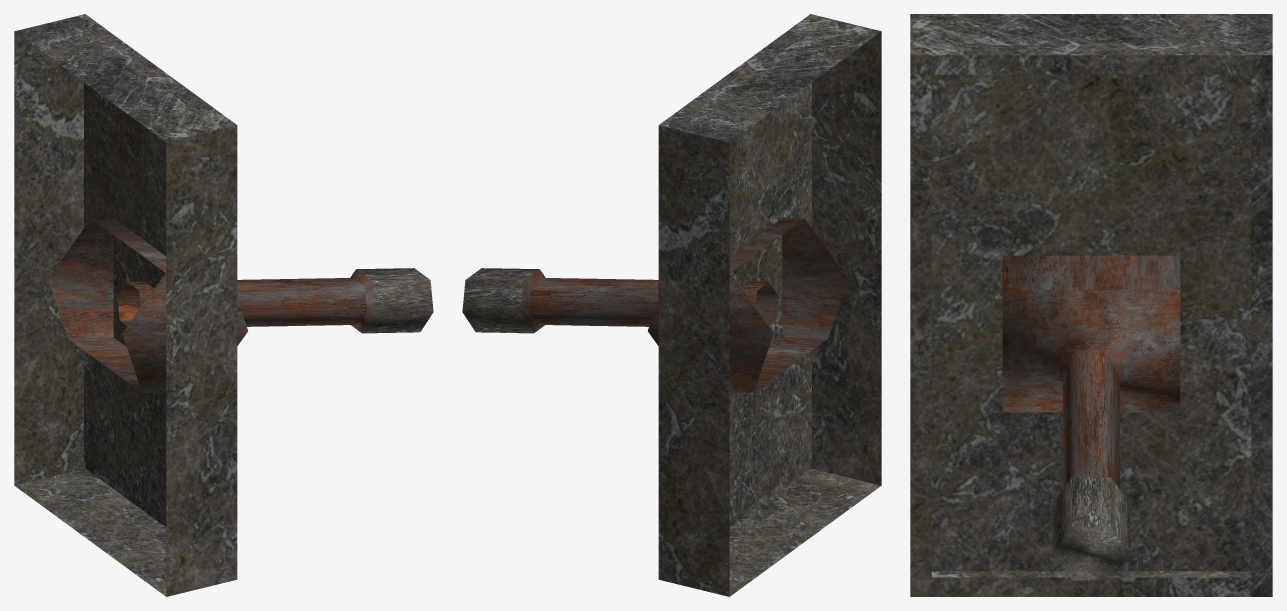
The model's file is lever_anim15.obj.
3 renders of one model, left to right at view 1: azimuth 30°, elevation 25°; view 2: azimuth 150°, elevation 25°; view 3: azimuth 270°, elevation 25°, orthographic. The views are drawn at different scales.
Parts seen in each view (by area): view 1: Cube, Cylinder; view 2: Cube, Cylinder; view 3: Cube, Cylinder.
Boxes of the visible parts, bbox=[...] form: Cube: bbox=[14, 14, 237, 596]; Cylinder: bbox=[48, 218, 433, 392]; Cube: bbox=[658, 14, 881, 596]; Cylinder: bbox=[462, 218, 847, 392]; Cube: bbox=[910, 14, 1272, 596]; Cylinder: bbox=[1002, 255, 1180, 580].
Bounding box in the file's own units: 1.55 × 2 × 1.21.
2 materials, 2 textured.
